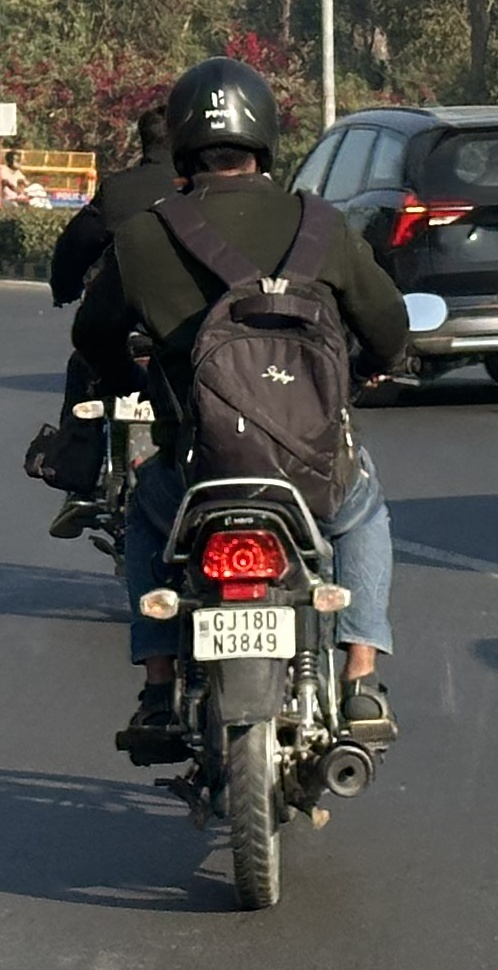BikeWithRider: (37, 50, 454, 919)
Helmet: (152, 52, 289, 195)
